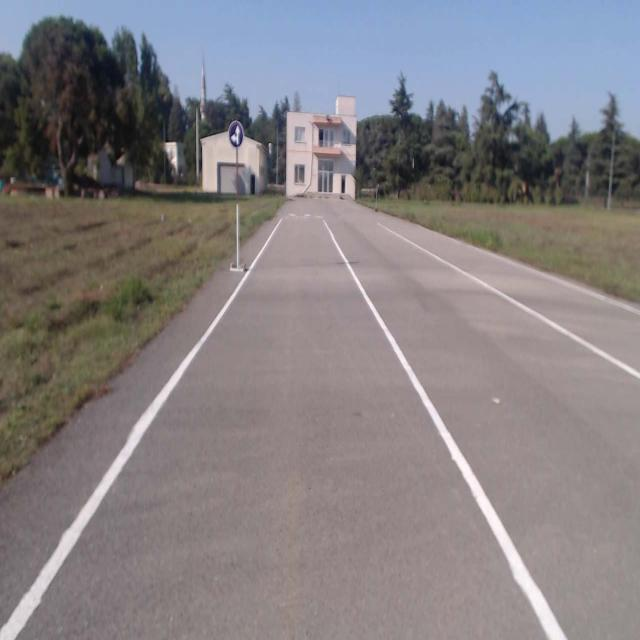ilerisol: (228, 120, 243, 147)
